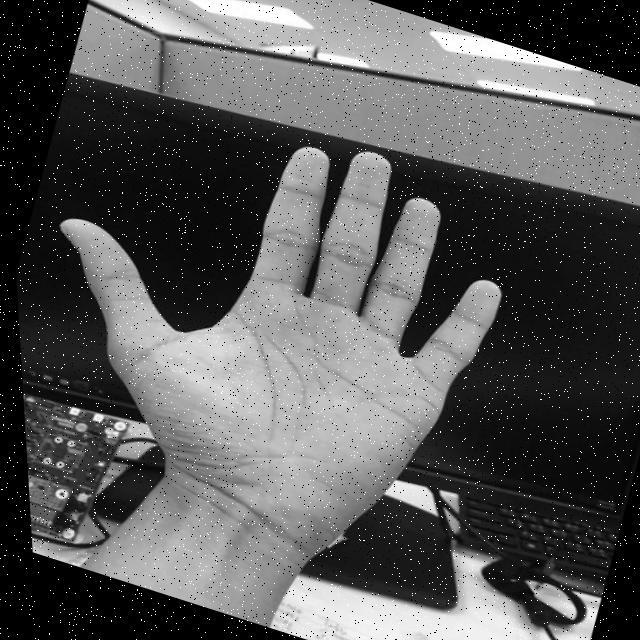no-gloves: (3, 62, 542, 578)
